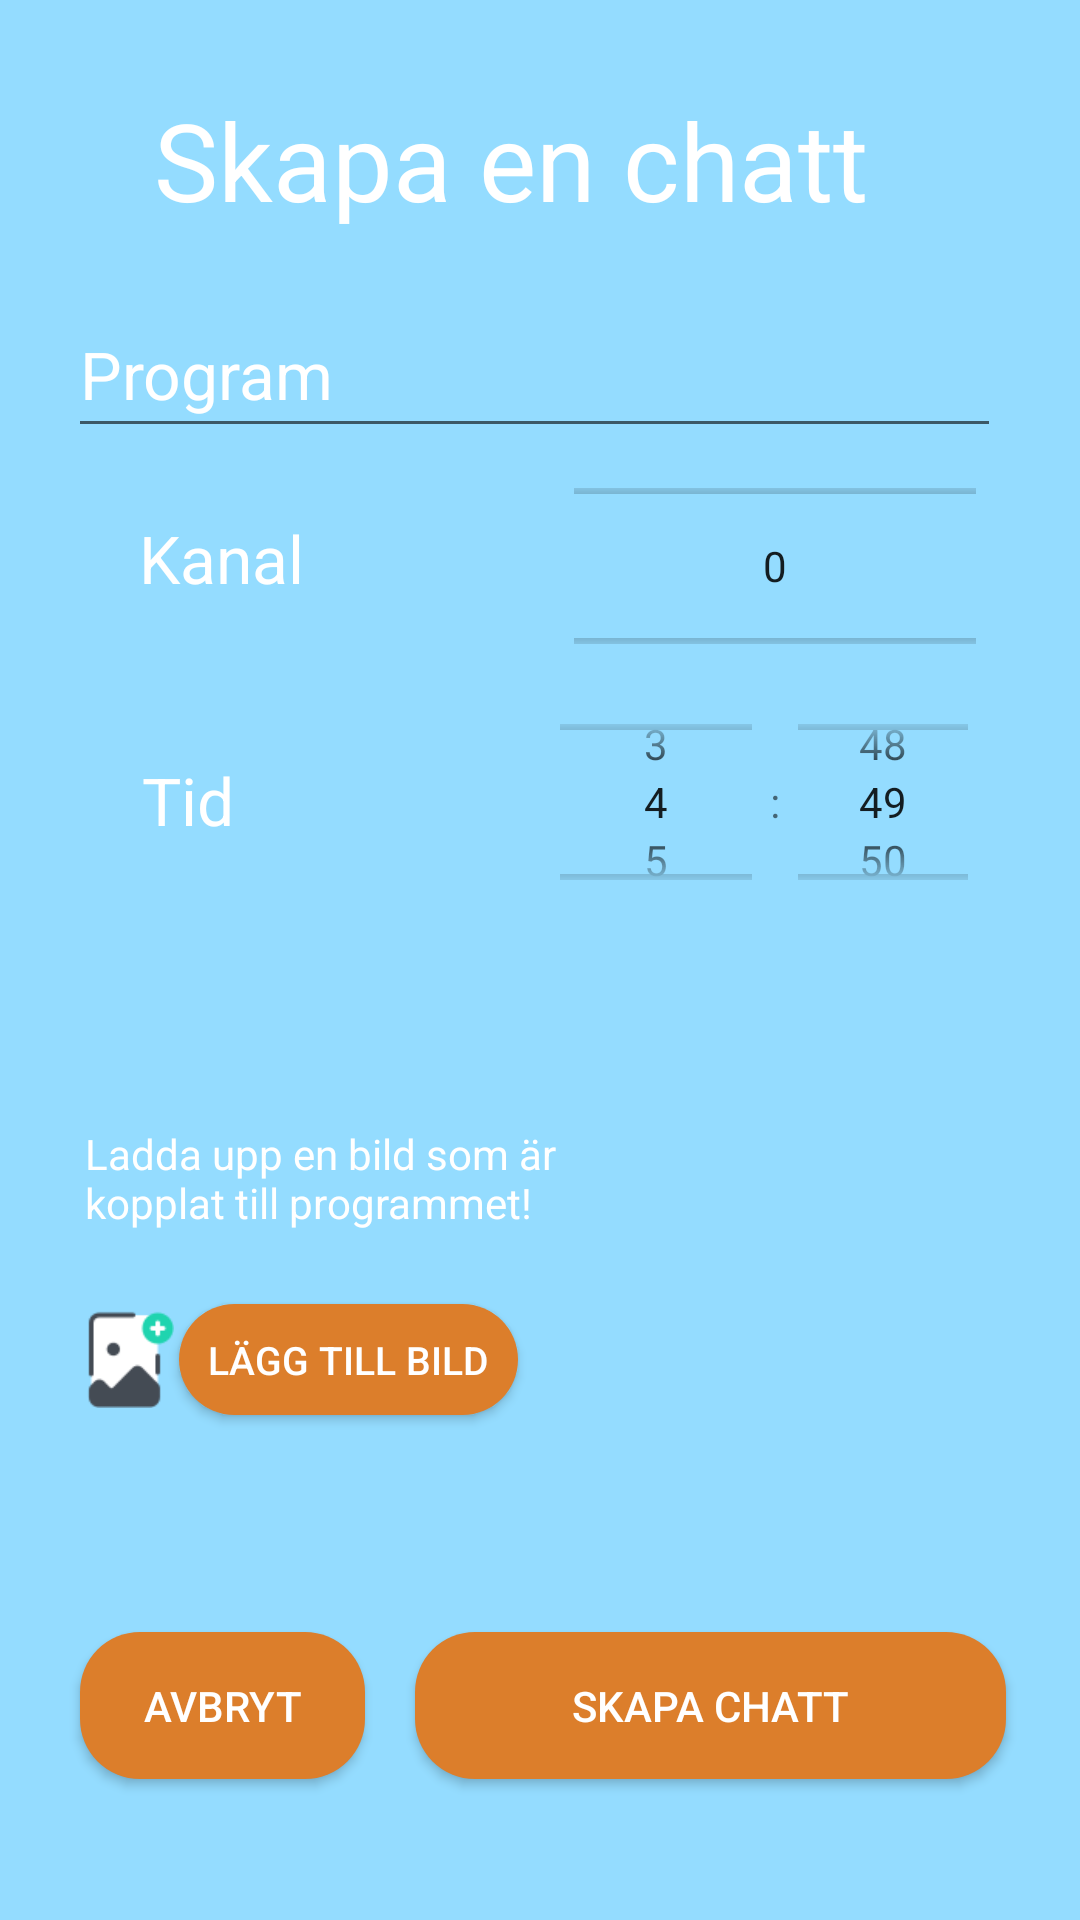

Point at icon controls on the screen. Image size 1080px×1920px, points as [x,y].
add: [131,1360]
